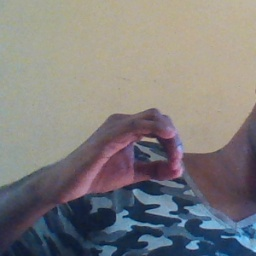O: (67, 107, 187, 201)
